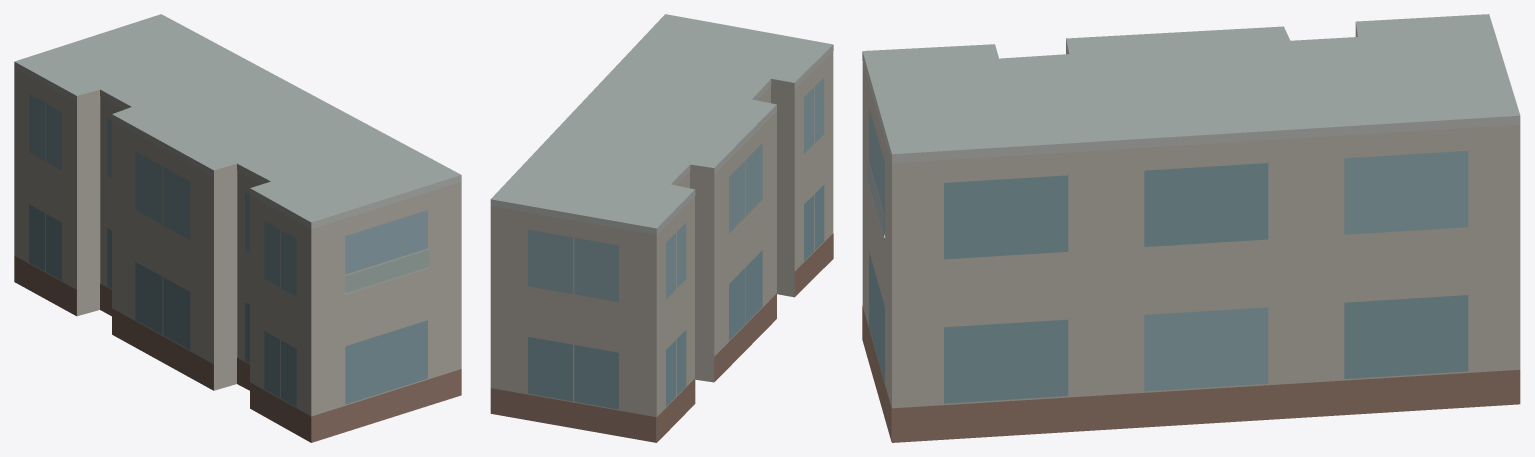
Rendered from survey-upis-32715323.glb.
The picture shows the model from 3 angles, left to right: view 1: azimuth 30°, elevation 25°; view 2: azimuth 150°, elevation 25°; view 3: azimuth 270°, elevation 25°; orthographic projection. The views are drawn at different scales.
Visible parts, largest first — view 1: survey-upis-32715323.tmp; view 2: survey-upis-32715323.tmp; view 3: survey-upis-32715323.tmp.
Part boxes in pixels (x1,y1,x2,y2): survey-upis-32715323.tmp: (14, 14, 461, 442); survey-upis-32715323.tmp: (490, 14, 833, 442); survey-upis-32715323.tmp: (862, 14, 1520, 442).
Bounding box in the file's own units: 8.19 × 7.85 × 16.23.
